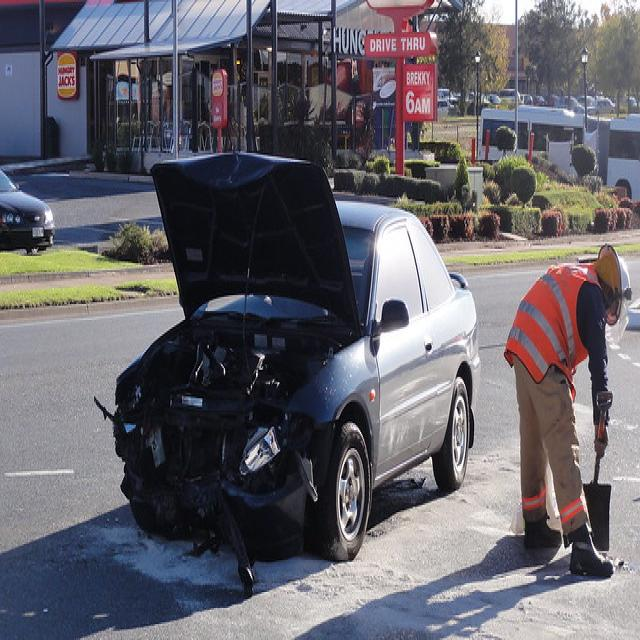crush: (95, 331, 336, 583)
